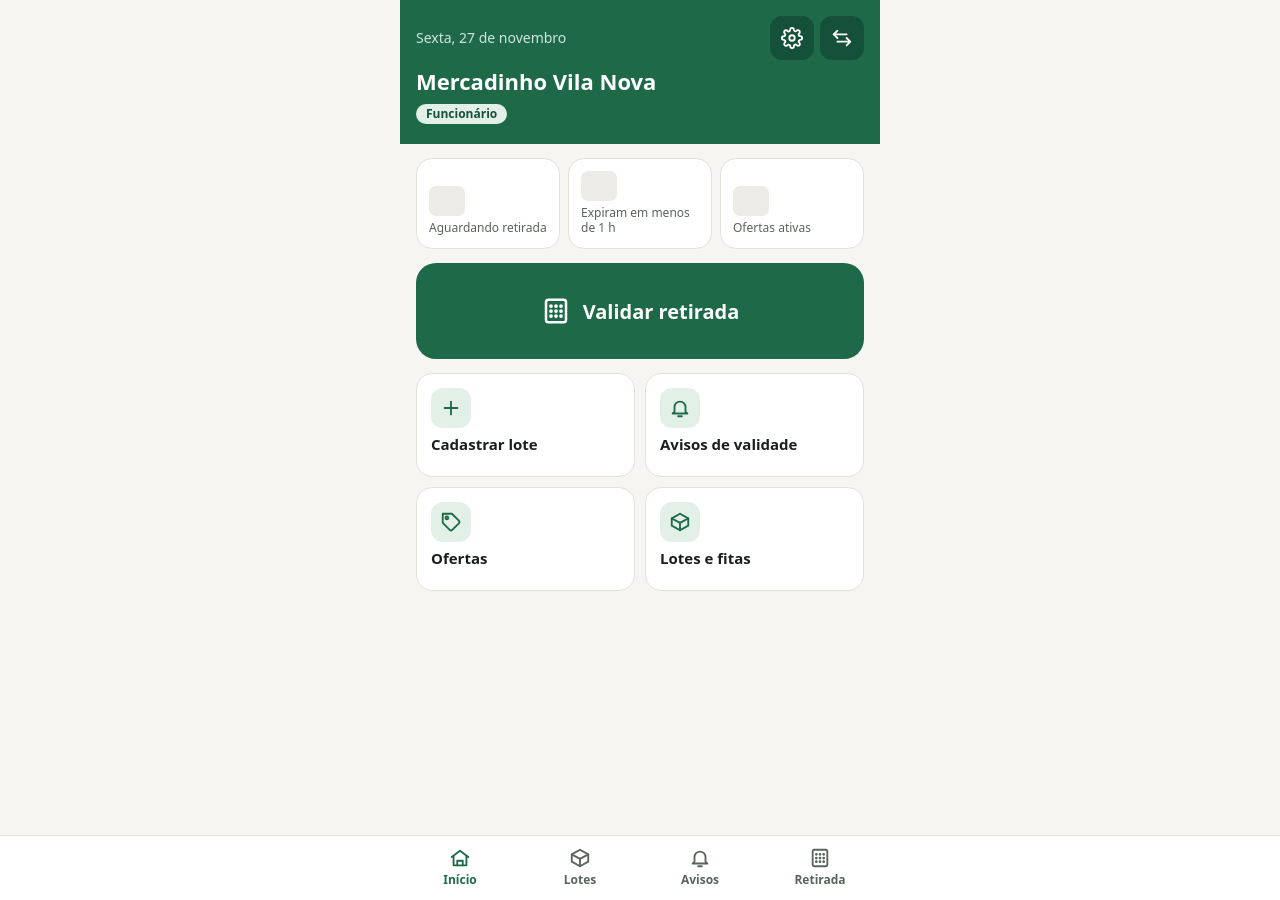
Test: proteção por login e papel › funcionária: opera a loja, mas não vê o painel
Expected: the heading "Mercadinho Vila Nova" is shown, [416,66,656,98]
Click the link "Retirada" at (820, 868), box [794,847,846,888]
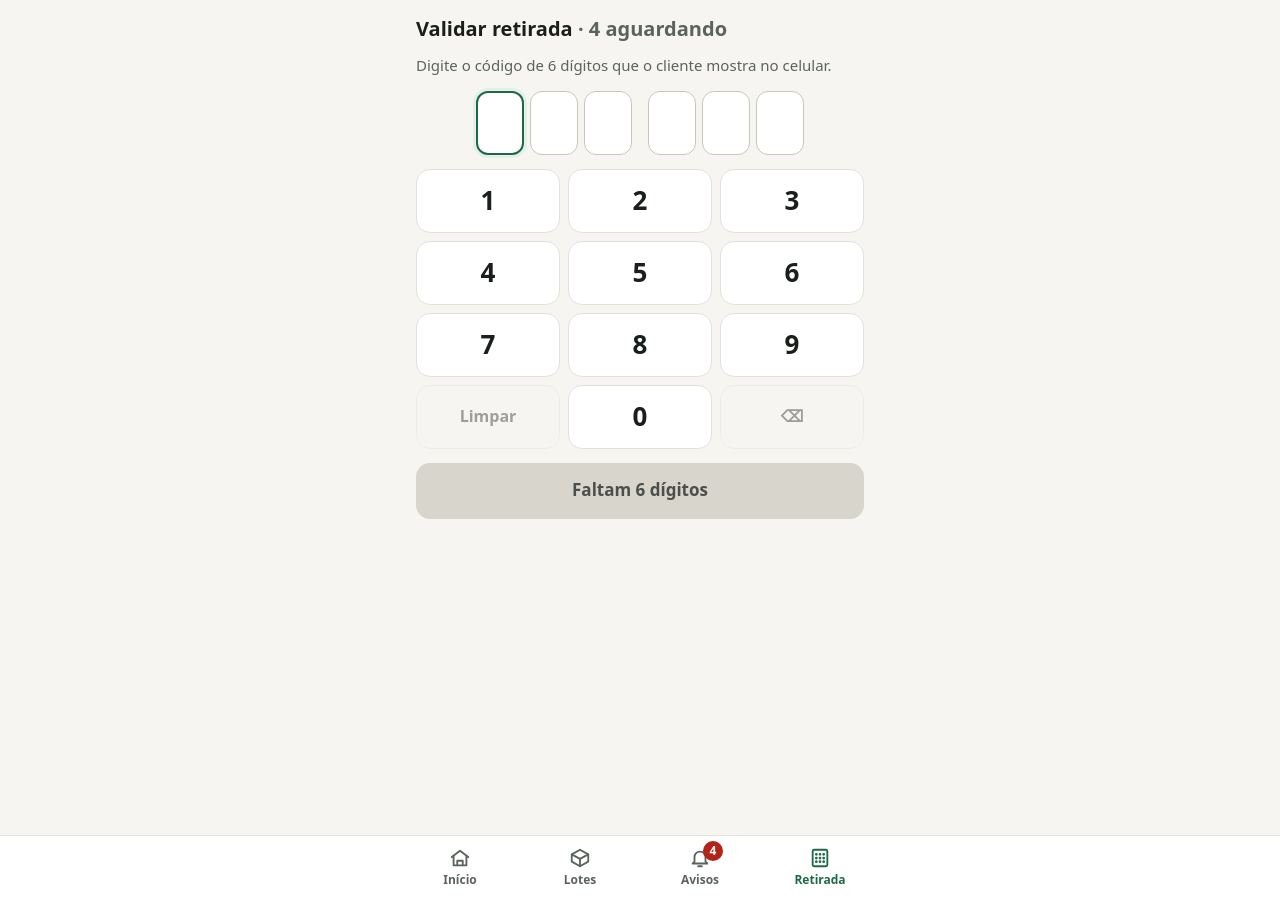
Expected: the heading "Validar retirada · 4 aguardando" is shown, [416,15,727,42]
